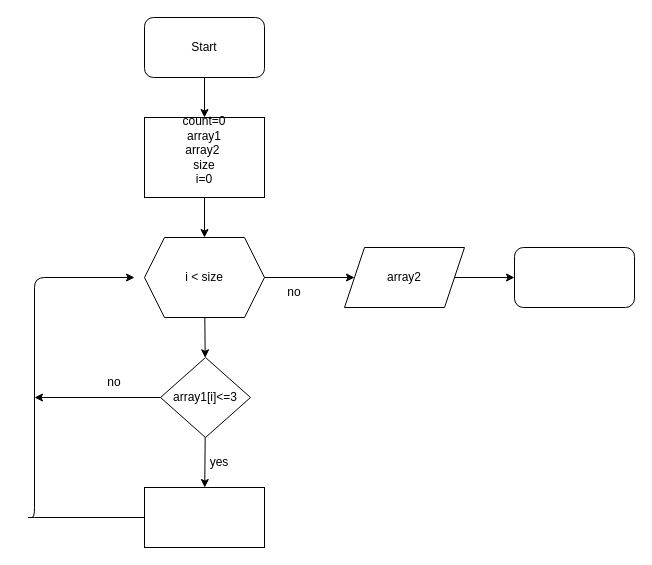
Some shapes in this 652 by 565 pixel diagram are drawn without their labels. The centre of each missing label's shape, as x and y in pixels:
array2=array1[i] count++: the point at 204,517
Finish: the point at 574,277
